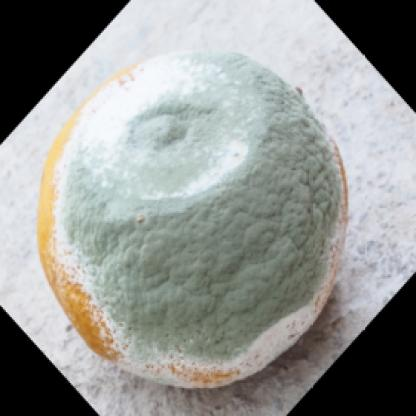rotten: (40, 54, 348, 391)
